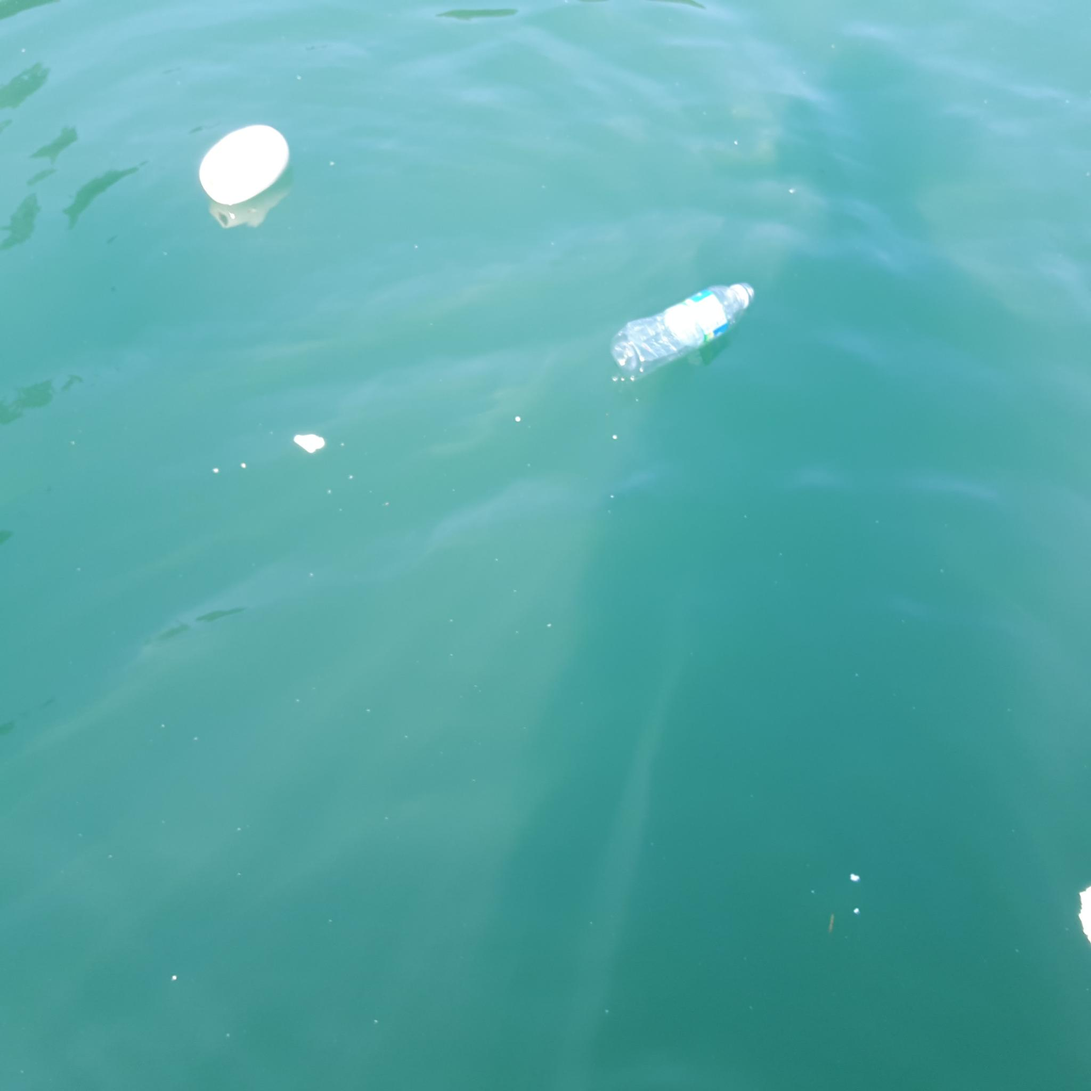sampah_terapung: (610, 282, 756, 384), (199, 125, 290, 205), (293, 434, 326, 453)
